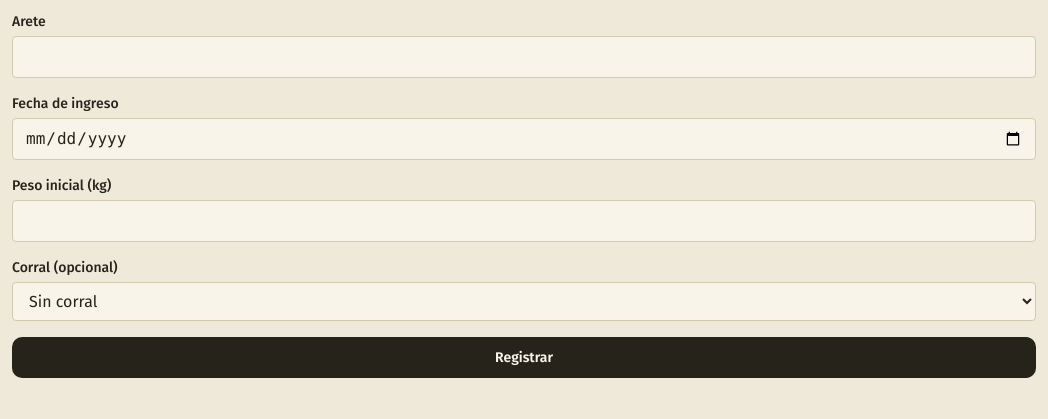
it: FatteningPigForm › displays the ear_tag validation error returned by the action
Click the button "Registrar" at (524, 358), box [12, 337, 1036, 378]
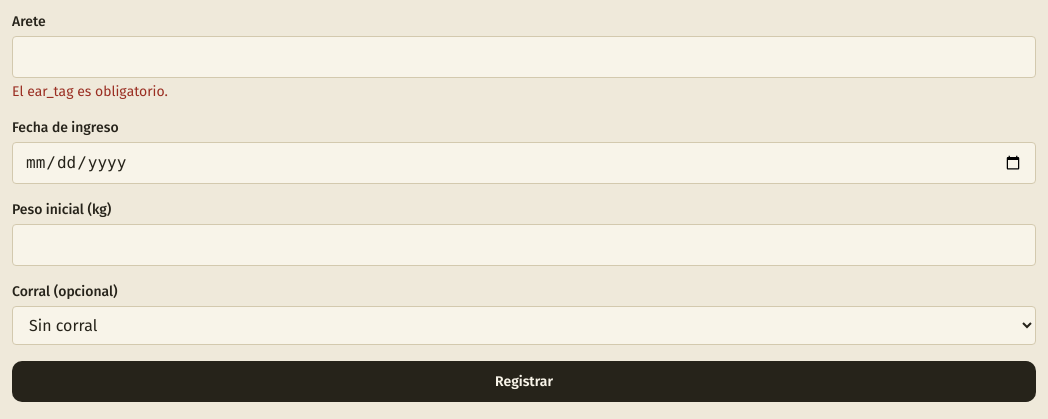
Expected: the message reads "El ear_tag es obligatorio.", [12, 83, 168, 100]
